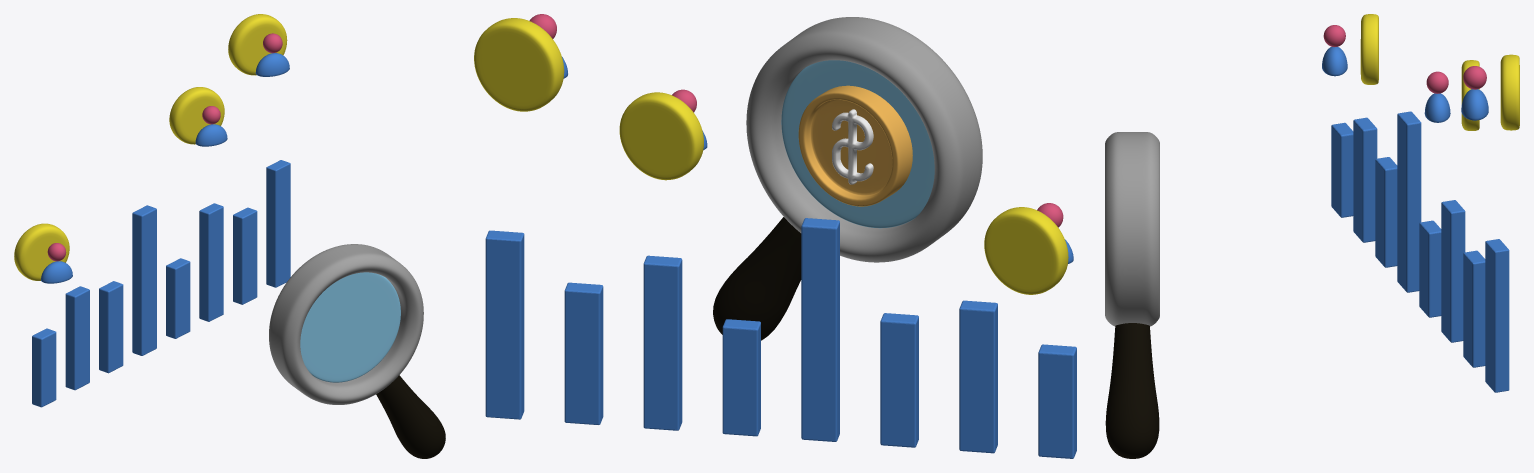
File: customer-acquisition-3d-animated-icon-1298800351787.glb
The picture shows the model from 3 angles, left to right: view 1: azimuth 30°, elevation 25°; view 2: azimuth 150°, elevation 25°; view 3: azimuth 270°, elevation 25°; orthographic projection. The views are drawn at different scales.
Parts seen in each view (by area): view 1: Cylinder.109, Cylinder.110, Plane.004, Cylinder.111, Cylinder.098, Plane.008, Plane.006, Cylinder.096, Cylinder.097, Plane.002, Plane.007, Plane.003 (+2 smaller); view 2: Cylinder.109, Cylinder.108, Cylinder.110, Plane.004, Plane.008, Cylinder.098, Plane.006, Cylinder.096, Cylinder.111, Cylinder.097, Plane.002, Plane.007 (+3 smaller); view 3: Cylinder.109, Cylinder.111, Plane.004, Plane.008, Plane.006, Plane.002, Cylinder.098, Plane.007, Plane.003, Cylinder.096, Plane.005, Plane.001 (+1 smaller).
Part boxes in pixels (x1,y1,x2,y2): Cylinder.109: (269,244,423,404); Cylinder.110: (300,272,400,382); Plane.004: (132,205,156,355); Cylinder.111: (376,375,445,458); Cylinder.098: (228,14,289,76); Plane.008: (266,160,290,287); Plane.006: (199,203,223,321); Cylinder.096: (14,223,72,283); Cylinder.097: (169,87,227,146); Plane.002: (65,286,89,390); Plane.007: (233,207,257,304); Plane.003: (99,281,123,373); Cylinder.109: (746,17,982,262); Cylinder.108: (798,85,912,206); Cylinder.110: (781,60,934,228); Plane.004: (801,218,839,441); Plane.008: (485,230,524,419); Cylinder.098: (474,14,567,111); Plane.006: (643,255,682,430); Cylinder.096: (984,203,1073,294); Cylinder.111: (713,217,801,340); Cylinder.097: (619,89,707,180); Plane.002: (959,300,997,453); Plane.007: (564,282,603,424); Cylinder.109: (1105,132,1159,326); Cylinder.111: (1105,323,1159,458); Plane.004: (1397,111,1421,292); Plane.008: (1485,239,1509,392); Plane.006: (1441,200,1465,342); Plane.002: (1353,117,1377,242); Cylinder.098: (1461,54,1519,130); Plane.007: (1463,250,1485,367); Plane.003: (1375,157,1397,267); Cylinder.096: (1322,14,1378,84); Plane.005: (1419,220,1441,317); Plane.001: (1331,122,1353,217).
Size of the model in its own units: 7.42 by 7.1 by 6.78.
